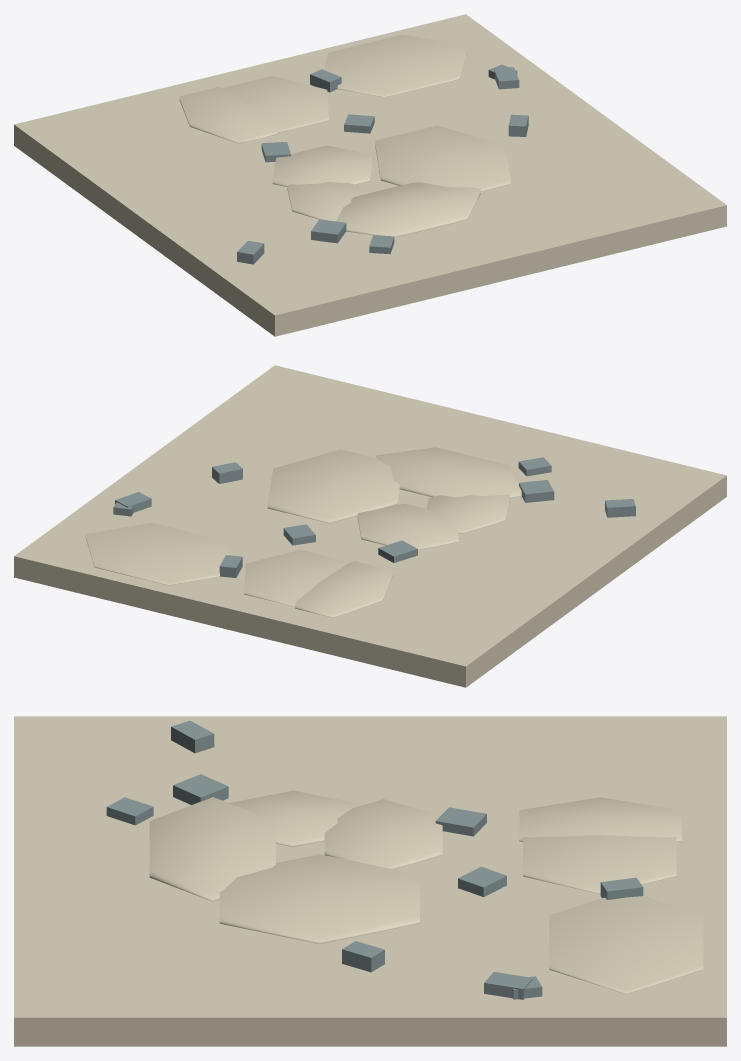
File: sunken-city-and-underwater-ruins-silted-floor-module-51b7b580__36946.glb
3 views of the same model, one above another, from view 1: azimuth 30°, elevation 25°; view 2: azimuth 150°, elevation 25°; view 3: azimuth 270°, elevation 25° (orthographic). The views are drawn at different scales.
Parts seen in each view (by area): view 1: silted-floor-module; view 2: silted-floor-module; view 3: silted-floor-module.
Boxes of the visible parts, box(x1,y1,x2,y2) form: silted-floor-module: box(14, 14, 726, 336); silted-floor-module: box(14, 365, 726, 687); silted-floor-module: box(14, 716, 726, 1046).
Bounding box in the file's own units: 4 × 0.2734 × 4.
